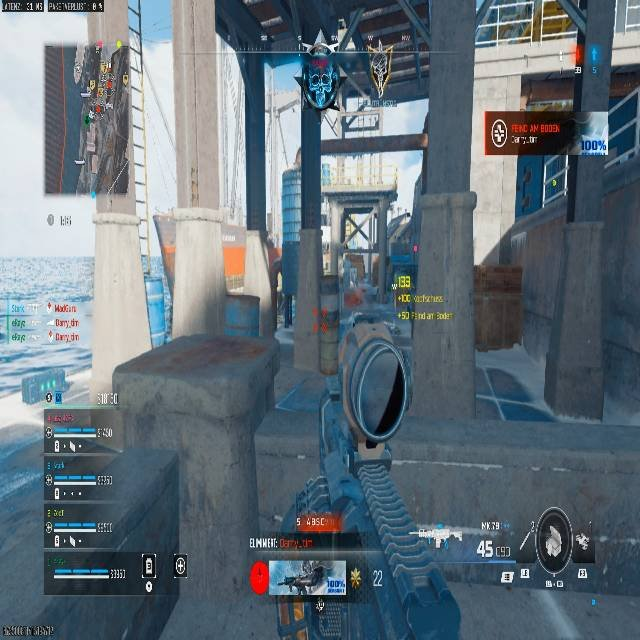player: (287, 560, 330, 637)
